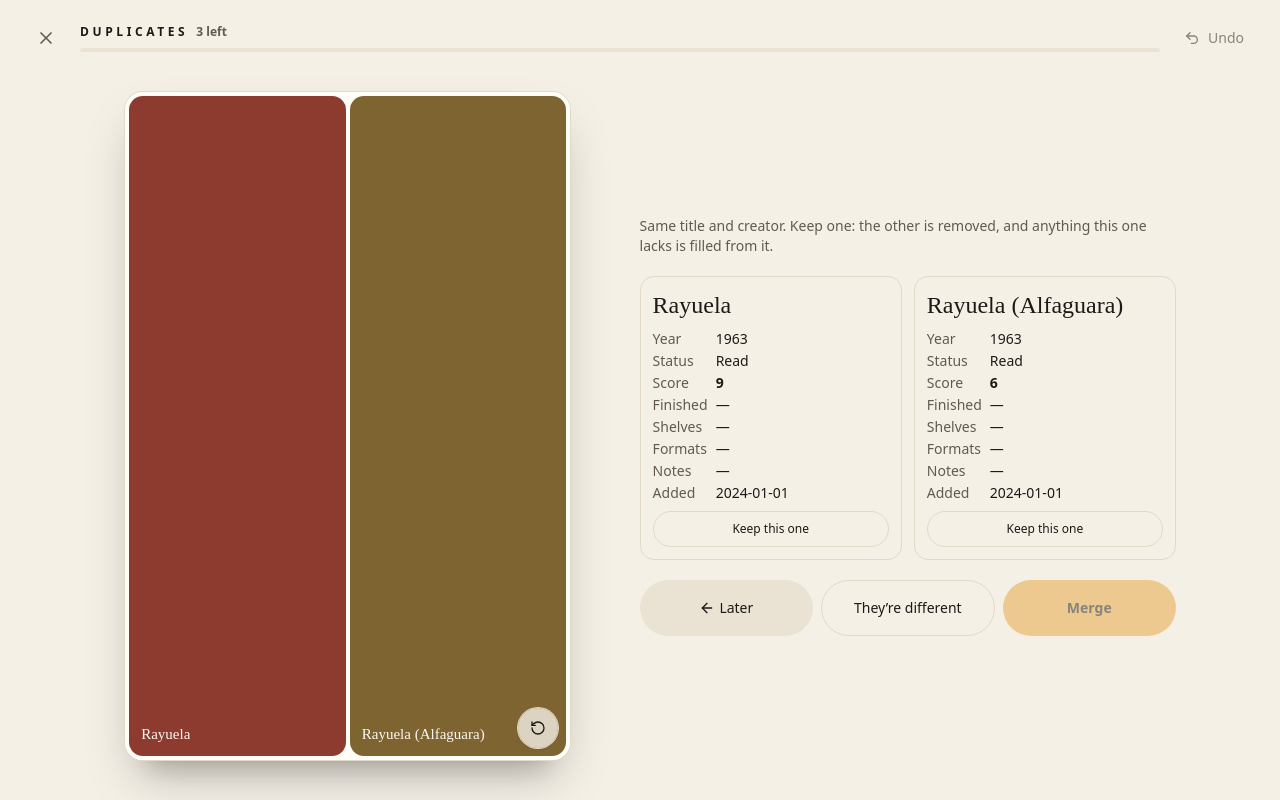
DuplicatesDeckPage (Sprint 113) › merges into the one chosen, after saying what happens, and cannot be undone
The image size is (1280, 800).
Expected: the text "9" is shown, x1=716 y1=373 x2=724 y2=392
Expected: the text "6" is shown, x1=990 y1=373 x2=998 y2=392
Click the 2nd button "Keep this one" at [1045, 529], box x1=927 y1=511 x2=1163 y2=547
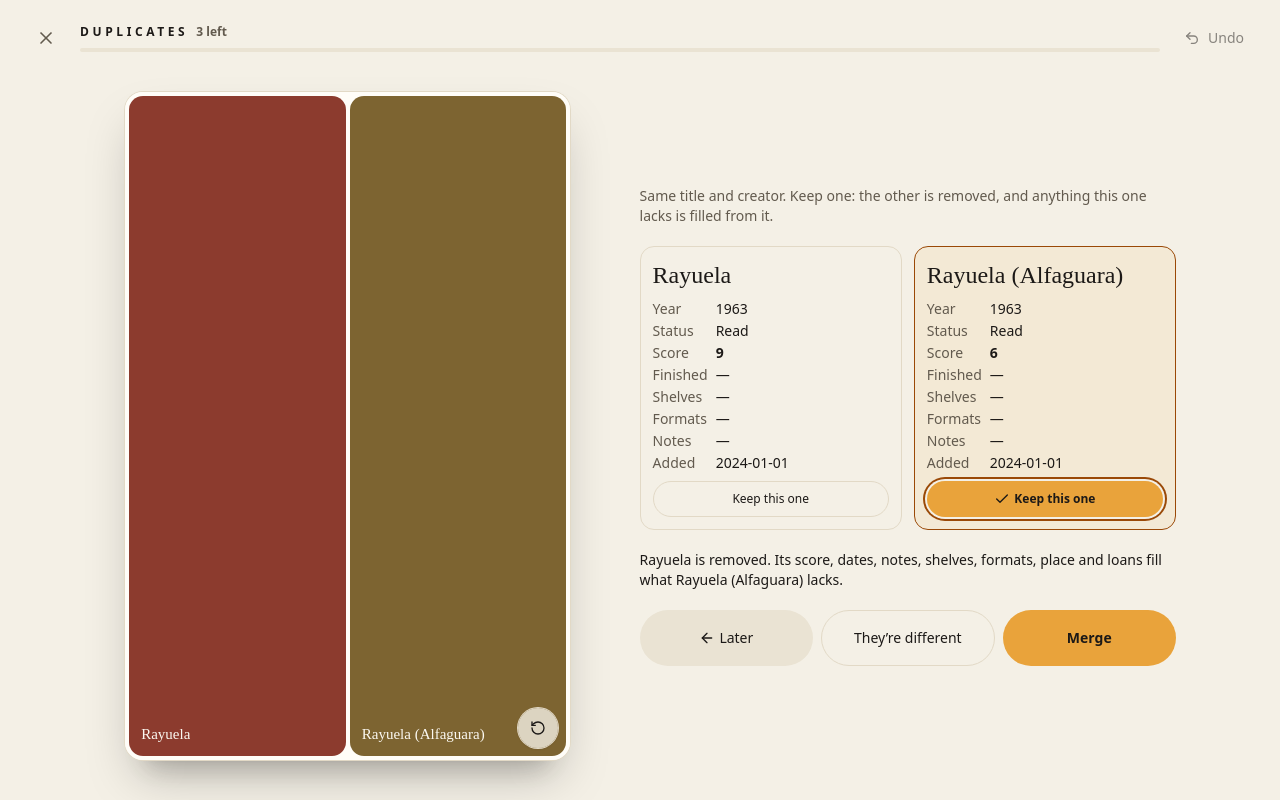
Expected: the text "Rayuela is removed" is shown, x1=640 y1=550 x2=1176 y2=590
Click the button "Merge" at [1089, 638], box x1=1002 y1=610 x2=1176 y2=666
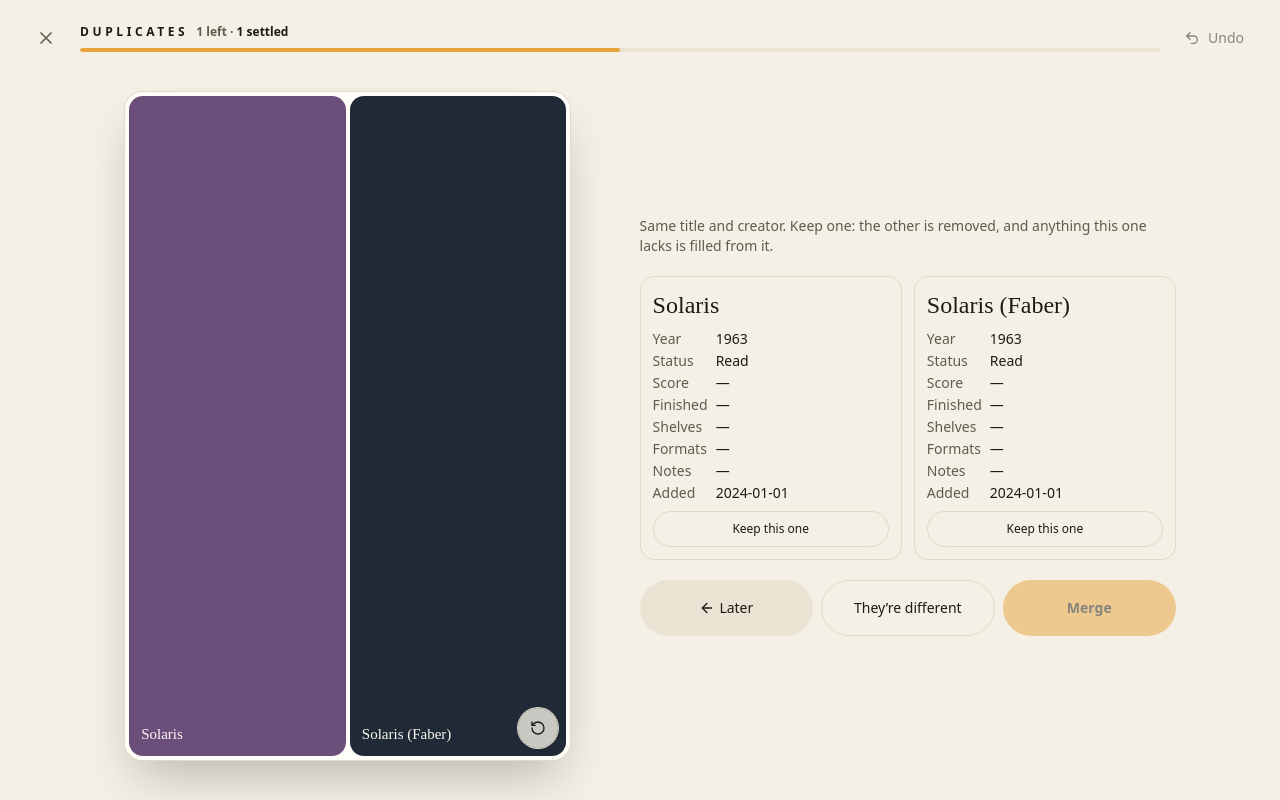
Expected: the button "Undo" is disabled, x1=1172 y1=16 x2=1256 y2=60
Expected: the element "Solaris" is shown, x1=640 y1=276 x2=902 y2=560
